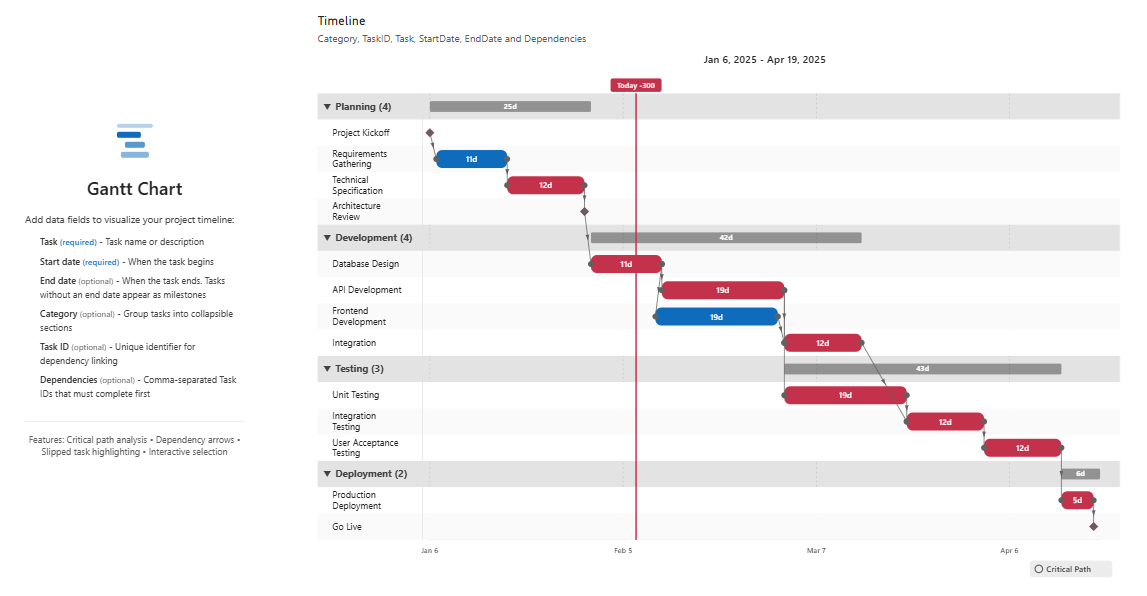

What the dashboard file says about the page in this screenshot:
{"tool":"powerbi","page":{"name":"Gantt","canvas":[1280,720],"ordinal":2},"visuals":[{"type":"gantt51446F686266453390398E5631FF15A1","fields":{"task":["Software project.Task"],"startDate":["Software project.Start"],"endDate":["Software project.End"],"resource":["Software project.Resource"],"context":["Software project.Dependencies"],"category":["Software project.Category"]},"box":[28,16,1136,667.9],"z":0}]}

Visuals, with their boxes on the page's 1280x720 design canvas (x1, y1, x2, y2). These are canvas units, not pixel positions in the 1147x596 screenshot, which may show the page scaled, cropped or inside an application window:
gantt51446F686266453390398E5631FF15A1 - Software project.Task x Software project.Start: region(28, 16, 1164, 684)
